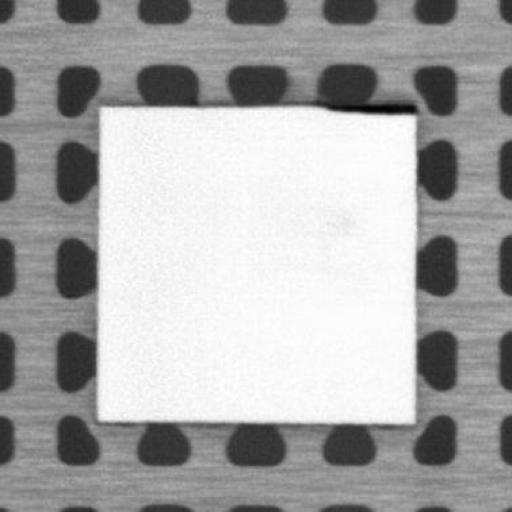DIE_BROKEN: (321, 98, 417, 118)
